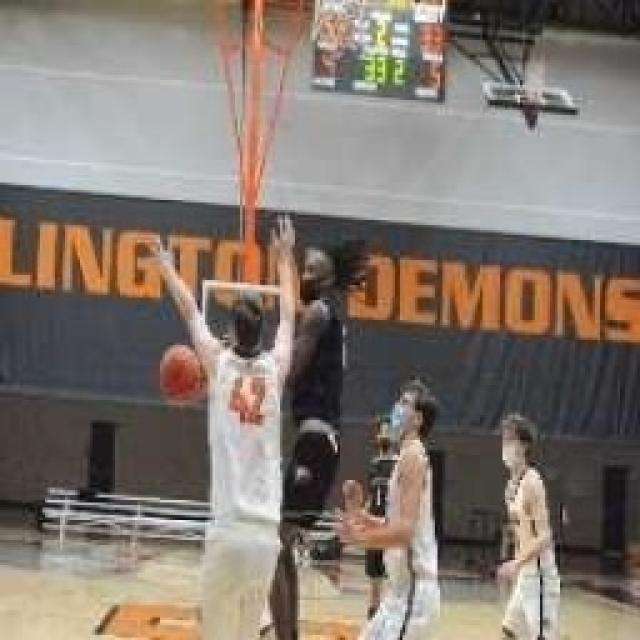basketball: (161, 342, 202, 403)
